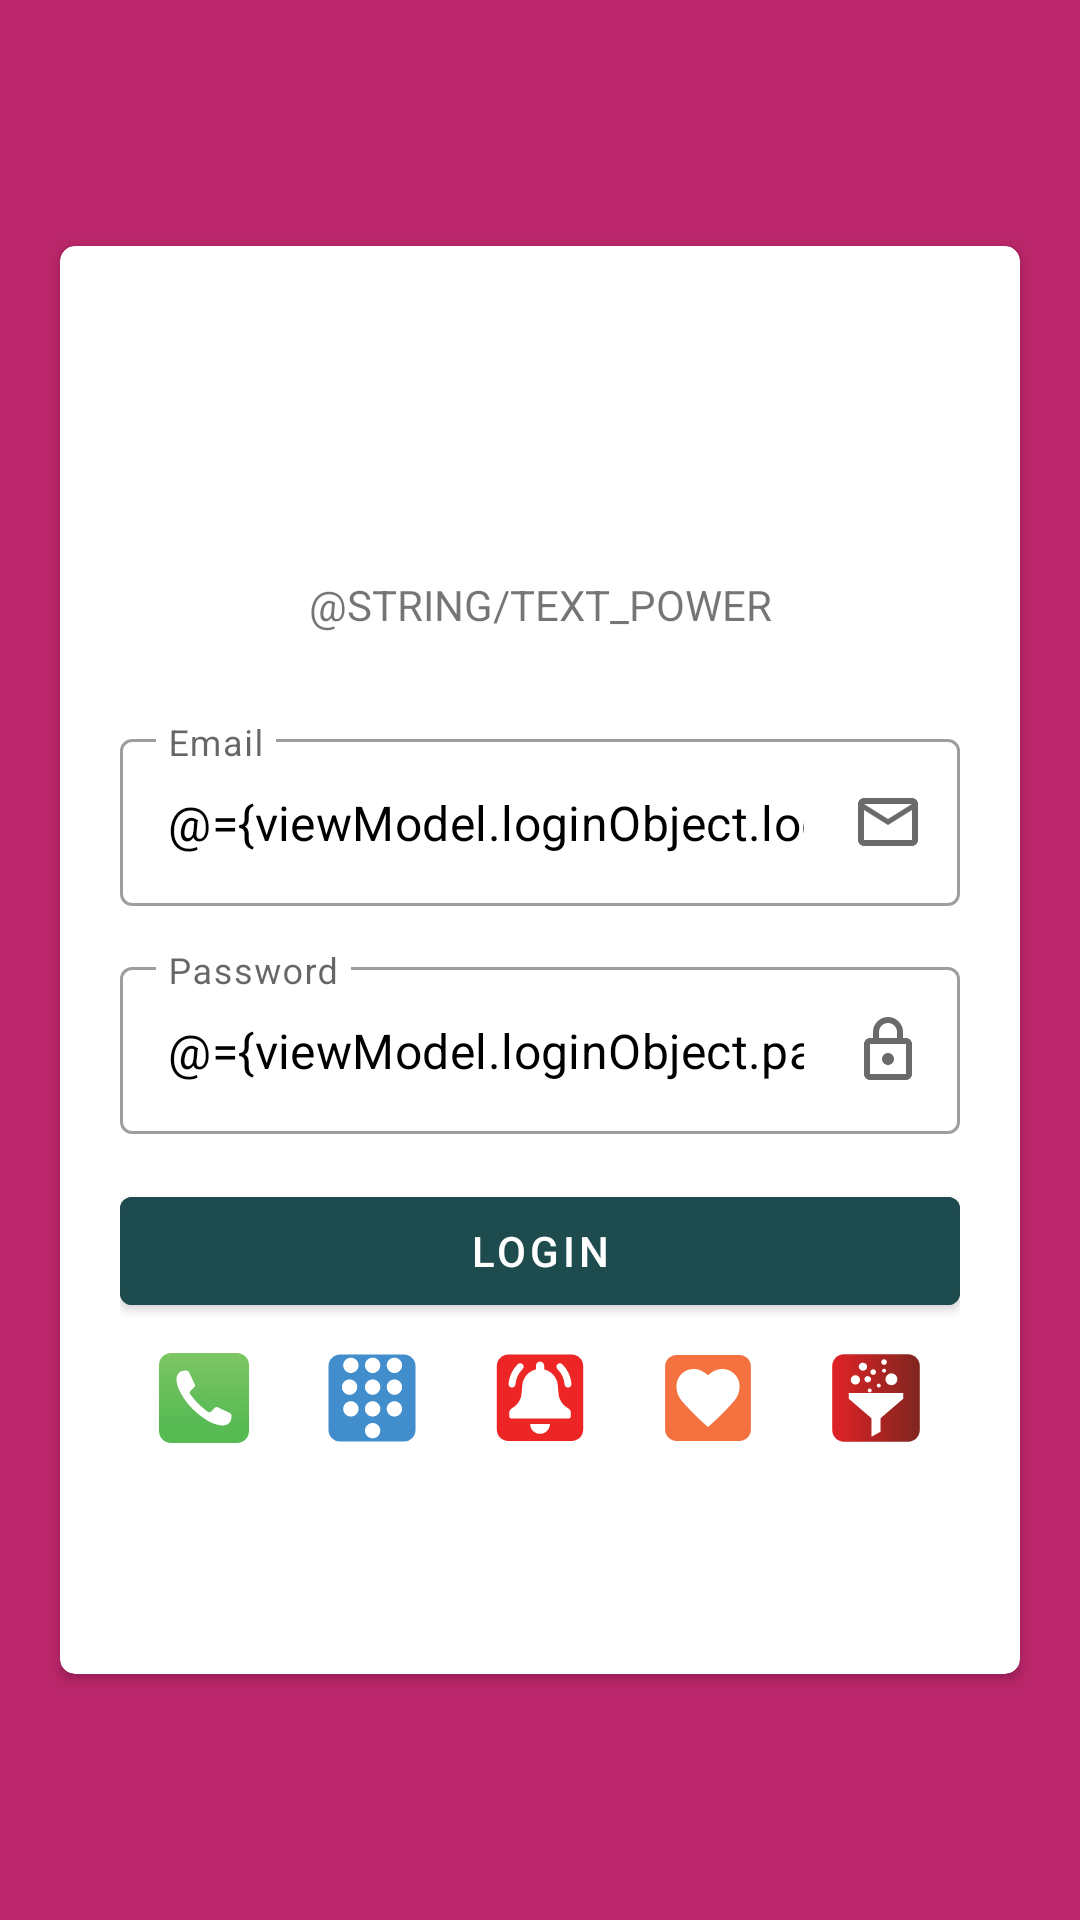

Icon bounding boxes for this 1080×1920 phone screenshot, format [left=x1, top=y1, right=x2, bottom=y2]:
call: [left=159, top=1353, right=249, bottom=1443]
dailpad: [left=328, top=1354, right=416, bottom=1442]
lead: [left=832, top=1354, right=920, bottom=1442]
reminder: [left=496, top=1354, right=584, bottom=1441]
